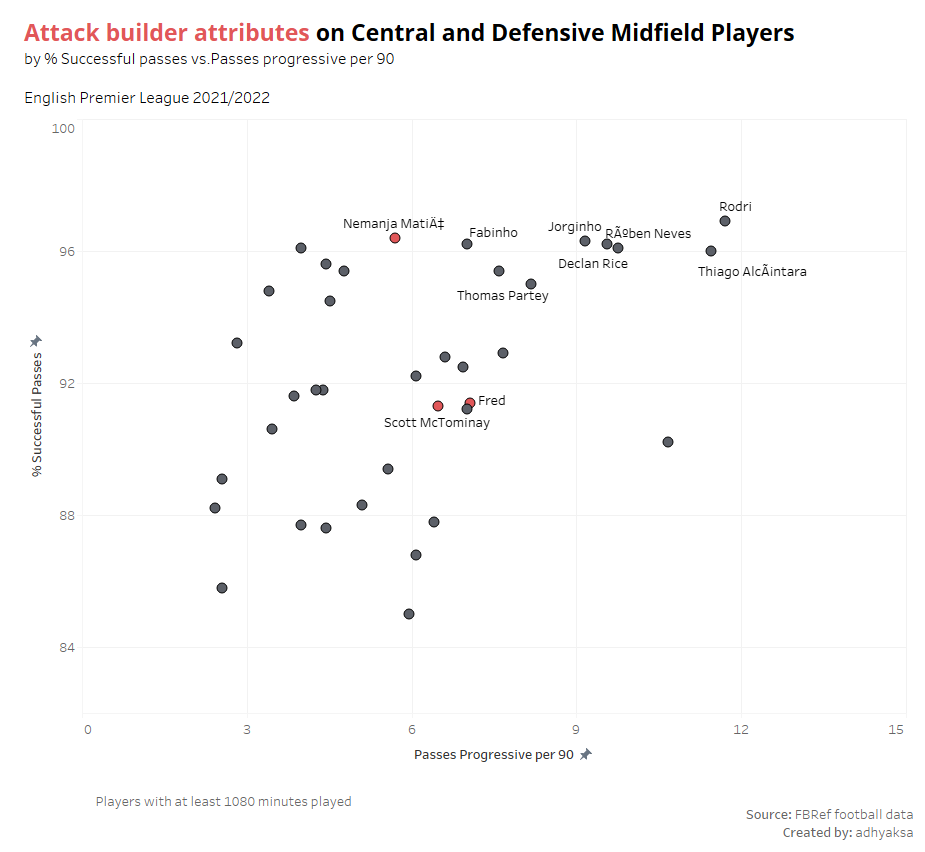

This screenshot's page, from the dashboard's own definition file:
{"tool":"tableau","page":{"name":"Dashboard 5","canvas":[1000,1000],"units":"permille","ordinal":4},"visuals":[{"type":"worksheet","title":"Sheet 4","mark":"Circle","rows":["pass_per100"],"cols":["passes_progressive_per90"],"box":[126.8,18.8,492.8,881.3]},{"type":"text","box":[166.9,915.4,283.8,42.3]},{"type":"text","box":[509.9,924.8,115,74]}]}

Visuals, with their boxes on the dashboard's canvas, which has no fixed pixel size, in thousandths of its width and height (x1, y1, x2, y2). These are canvas units, not pixel positions in the 925x852 screenshot, which may show the page scaled, cropped or inside an application window:
"Sheet 4" worksheet (Circle marks): x1=127, y1=19, x2=620, y2=900
text: x1=167, y1=915, x2=451, y2=958
text: x1=510, y1=925, x2=625, y2=999
